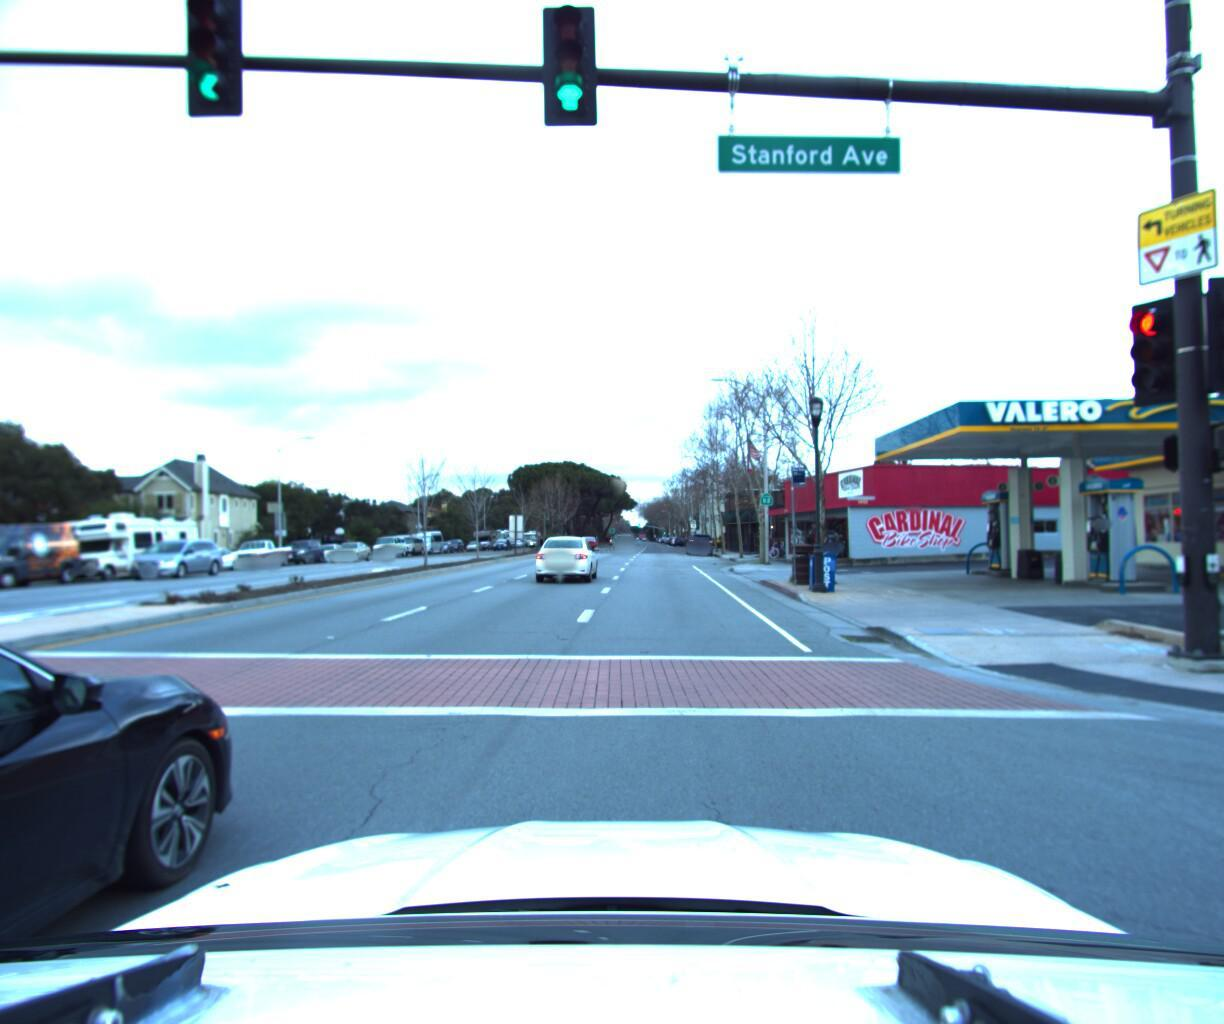bicycle: (823, 526, 863, 553), (821, 530, 861, 553), (818, 530, 857, 553), (764, 533, 783, 555)
car: (117, 539, 229, 583), (532, 530, 602, 580), (227, 534, 297, 569), (184, 545, 246, 573), (278, 537, 330, 565), (327, 542, 374, 565), (370, 532, 409, 556), (392, 529, 427, 554), (687, 527, 714, 552), (612, 531, 634, 546)
other_vehicle: (46, 505, 206, 584)
